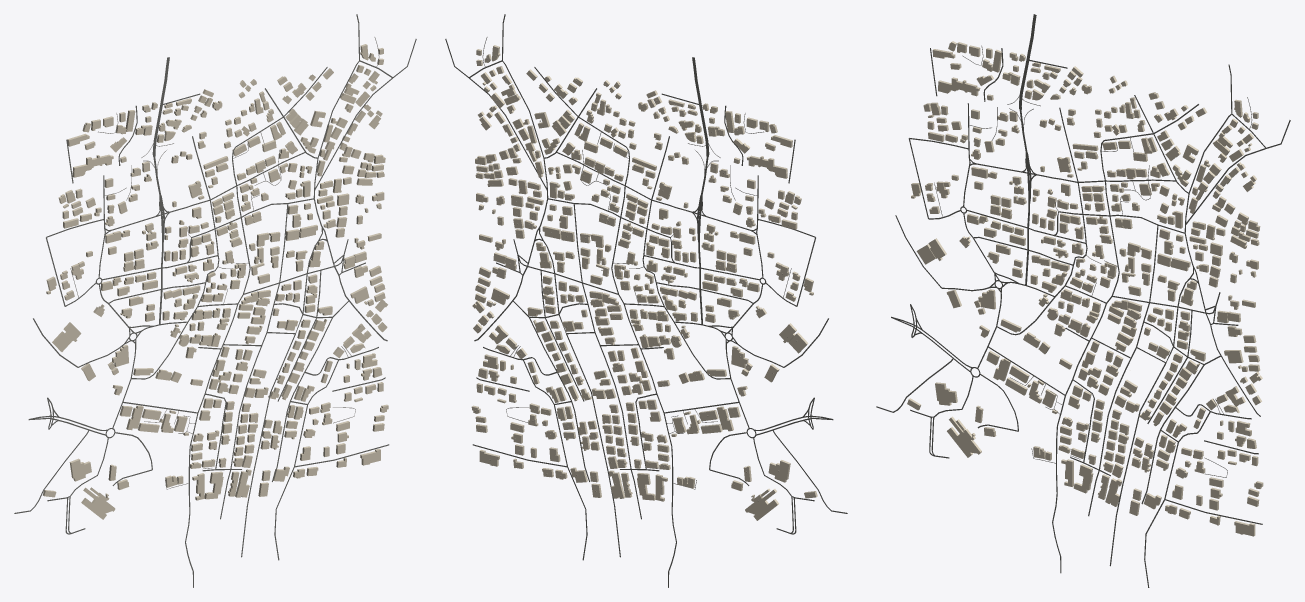
File: historic-palestine-10_24_3519_3189.glb
3 renders of one model, left to right at view 1: azimuth 30°, elevation 25°; view 2: azimuth 150°, elevation 25°; view 3: azimuth 330°, elevation 25°, orthographic. The views are drawn at different scales.
Visible parts, largest first — view 1: Road As'ad Sam'an Jaghab, Road Khalil Abu Rayya, Building_.443, Road Hanna Naqqara; view 2: Road As'ad Sam'an Jaghab, Road Khalil Abu Rayya, Building_.443, Road Hanna Naqqara; view 3: Road As'ad Sam'an Jaghab, Building_.443, Road Khalil Abu Rayya, Road Hanna Naqqara.
Part boxes in pixels (<box>): Road As'ad Sam'an Jaghab: <box>185,186,250,587</box>; Road Khalil Abu Rayya: <box>313,14,387,341</box>; Building_.443: <box>81,487,115,519</box>; Road Hanna Naqqara: <box>220,203,288,519</box>; Road As'ad Sam'an Jaghab: <box>611,186,676,587</box>; Road Khalil Abu Rayya: <box>474,14,548,341</box>; Building_.443: <box>745,488,778,520</box>; Road Hanna Naqqara: <box>573,204,641,519</box>; Road As'ad Sam'an Jaghab: <box>1052,181,1119,573</box>; Building_.443: <box>947,416,981,457</box>; Road Khalil Abu Rayya: <box>1184,64,1260,416</box>; Road Hanna Naqqara: <box>1088,225,1158,516</box>.
Size of the model in its own units: 1136 by 1447 by 9.09.
